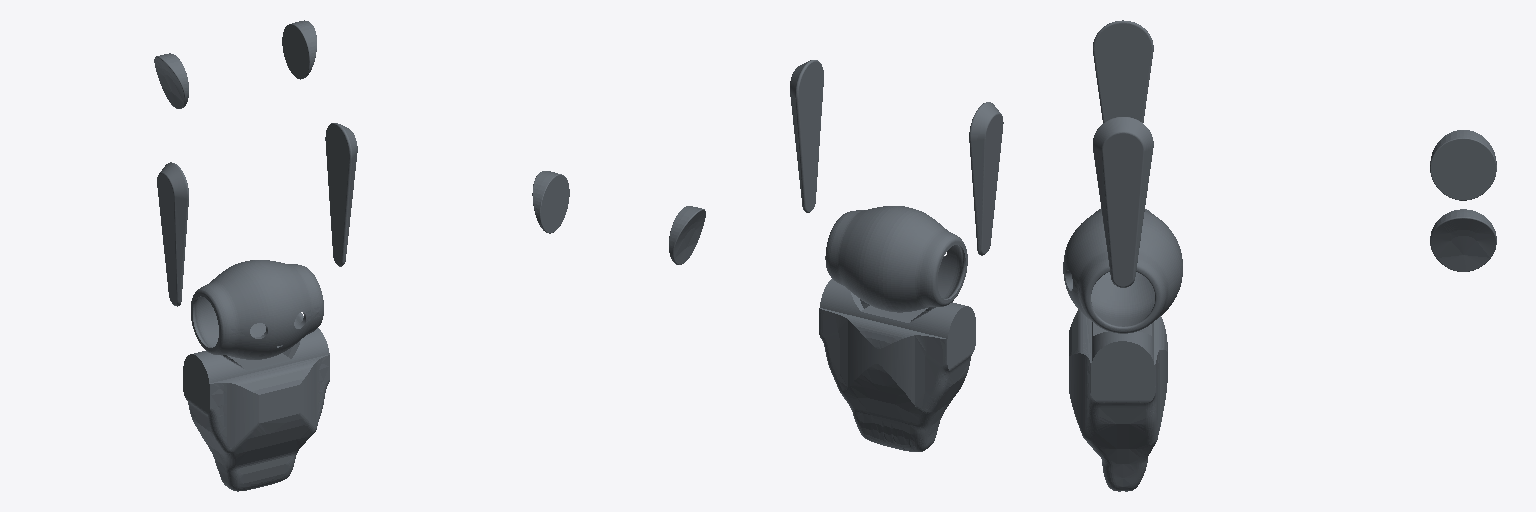
URDF robot description (Robot):
<?xml version="1.0" ?>
<robot name="Robot">
  <!--Generated by CROSS, a ROS Workbench for FreeCAD (https://github.com/galou/freecad.cross)-->
  <link name="Link">
    <visual>
      <!--main_body_parts001/Associated_Part_009.Part__Feature022.-->
      <origin xyz="0.0 0.0 0.0" rpy="0.0 -0.0 0.0"/>
      <geometry>
        <mesh filename="package://robot_model/meshes/ahilya_mini_shapes_Associated_Part_021.dae"/>
      </geometry>
    </visual>
    <visual>
      <!--main_body_parts001/Associated_Part_009.Part__Feature023.-->
      <origin xyz="0.0 0.0 0.0" rpy="0.0 -0.0 0.0"/>
      <geometry>
        <mesh filename="package://robot_model/meshes/ahilya_mini_shapes_Associated_Part_022.dae"/>
      </geometry>
    </visual>
    <visual>
      <!--main_body_parts001/Cut.-->
      <origin xyz="0.0 0.0 0.0" rpy="0.0 -0.0 0.0"/>
      <geometry>
        <mesh filename="package://robot_model/meshes/ahilya_mini_shapes_Cut.dae"/>
      </geometry>
    </visual>
    <collision>
      <!--main_body_parts001/Associated_Part_009.Part__Feature022.-->
      <origin xyz="0.0 0.0 0.0" rpy="0.0 -0.0 0.0"/>
      <geometry>
        <mesh filename="package://robot_model/meshes/ahilya_mini_shapes_Associated_Part_021.dae"/>
      </geometry>
    </collision>
    <collision>
      <!--main_body_parts001/Associated_Part_009.Part__Feature023.-->
      <origin xyz="0.0 0.0 0.0" rpy="0.0 -0.0 0.0"/>
      <geometry>
        <mesh filename="package://robot_model/meshes/ahilya_mini_shapes_Associated_Part_022.dae"/>
      </geometry>
    </collision>
    <collision>
      <!--main_body_parts001/Cut.-->
      <origin xyz="0.0 0.0 0.0" rpy="0.0 -0.0 0.0"/>
      <geometry>
        <mesh filename="package://robot_model/meshes/ahilya_mini_shapes_Cut.dae"/>
      </geometry>
    </collision>
    <inertial>
      <mass value="0.0"/>
      <origin xyz="0.0 0.0 0.0" rpy="0.0 -0.0 0.0"/>
      <inertia ixx="0.0" ixy="0.0" ixz="0.0" iyy="0.0" iyz="0.0" izz="0.0"/>
    </inertial>
  </link>
  <link name="Link001">
    <visual>
      <!--fins-->
      <origin xyz="0.0 0.0 0.0" rpy="0.0 -0.0 0.0"/>
      <geometry>
        <mesh filename="package://robot_model/meshes/ahilya_mini_shapes_fins.dae"/>
      </geometry>
    </visual>
    <collision>
      <!--fins-->
      <origin xyz="0.0 0.0 0.0" rpy="0.0 -0.0 0.0"/>
      <geometry>
        <mesh filename="package://robot_model/meshes/ahilya_mini_shapes_fins.dae"/>
      </geometry>
    </collision>
    <inertial>
      <mass value="0.0"/>
      <origin xyz="0.0 0.0 0.0" rpy="0.0 -0.0 0.0"/>
      <inertia ixx="0.0" ixy="0.0" ixz="0.0" iyy="0.0" iyz="0.0" izz="0.0"/>
    </inertial>
  </link>
  <link name="Link002">
    <visual>
      <!--fins (Mirror #1)-->
      <origin xyz="0.0 0.0 0.0" rpy="0.0 -0.0 0.0"/>
      <geometry>
        <mesh filename="package://robot_model/meshes/ahilya_mini_shapes_fins_Mirror_1_.dae"/>
      </geometry>
    </visual>
    <collision>
      <!--fins (Mirror #1)-->
      <origin xyz="0.0 0.0 0.0" rpy="0.0 -0.0 0.0"/>
      <geometry>
        <mesh filename="package://robot_model/meshes/ahilya_mini_shapes_fins_Mirror_1_.dae"/>
      </geometry>
    </collision>
    <inertial>
      <mass value="0.0"/>
      <origin xyz="0.0 0.0 0.0" rpy="0.0 -0.0 0.0"/>
      <inertia ixx="0.0" ixy="0.0" ixz="0.0" iyy="0.0" iyz="0.0" izz="0.0"/>
    </inertial>
  </link>
  <link name="Link003">
    <visual>
      <!--head-->
      <origin xyz="0.0 0.0 0.0" rpy="0.0 -0.0 0.0"/>
      <geometry>
        <mesh filename="package://robot_model/meshes/ahilya_mini_shapes_head.dae"/>
      </geometry>
    </visual>
    <collision>
      <!--head-->
      <origin xyz="0.0 0.0 0.0" rpy="0.0 -0.0 0.0"/>
      <geometry>
        <mesh filename="package://robot_model/meshes/ahilya_mini_shapes_head.dae"/>
      </geometry>
    </collision>
    <inertial>
      <mass value="0.0"/>
      <origin xyz="0.0 0.0 0.0" rpy="0.0 -0.0 0.0"/>
      <inertia ixx="0.0" ixy="0.0" ixz="0.0" iyy="0.0" iyz="0.0" izz="0.0"/>
    </inertial>
  </link>
  <joint name="Joint" type="continuous">
    <parent link="Link"/>
    <child link="Link002"/>
    <origin xyz="0.0 0.0 0.0" rpy="0.0 -0.0 0.0"/>
    <axis xyz="1 0 0"/>
  </joint>
  <joint name="Joint001" type="continuous">
    <parent link="Link"/>
    <child link="Link001"/>
    <origin xyz="0.0 0.0 0.0" rpy="0.0 -0.0 0.0"/>
    <axis xyz="1 0 0"/>
  </joint>
  <joint name="Joint002" type="continuous">
    <parent link="Link"/>
    <child link="Link003"/>
    <origin xyz="0.0 0.0 0.0" rpy="0.0 -0.0 0.0"/>
    <axis xyz="0 0 1"/>
  </joint>
</robot>

--- What the picture shows (computed from the rendered views, not written in the file) ---
3 views of the same robot in one strip: view 1: azimuth 30°, elevation 25°; view 2: azimuth 150°, elevation 25°; view 3: azimuth 270°, elevation 25° (orthographic).
Robot: Robot — 4 links, 3 joints (3 continuous); root link Link; default pose: all joints at 0.
Visible links, largest first — view 1: Link, Link003, Link001, Link002; view 2: Link, Link003, Link001, Link002; view 3: Link, Link003, Link001, Link002.
Boxes of the visible links, x1,y1,x2,y2 form: Link: (154, 20, 329, 491); Link003: (191, 260, 323, 359); Link001: (325, 123, 357, 266); Link002: (157, 162, 188, 306); Link: (532, 171, 975, 451); Link003: (825, 206, 967, 312); Link001: (790, 60, 823, 212); Link002: (969, 102, 1003, 255); Link: (1069, 130, 1496, 491); Link003: (1063, 209, 1182, 333); Link001: (1093, 117, 1153, 287); Link002: (1093, 20, 1153, 122).
Bounding box of the posed robot: 0.3674 × 0.3985 × 0.4185 m (x, y, z).
6 mesh visuals loaded from 6 distinct referenced files (6 Collada DAE).
